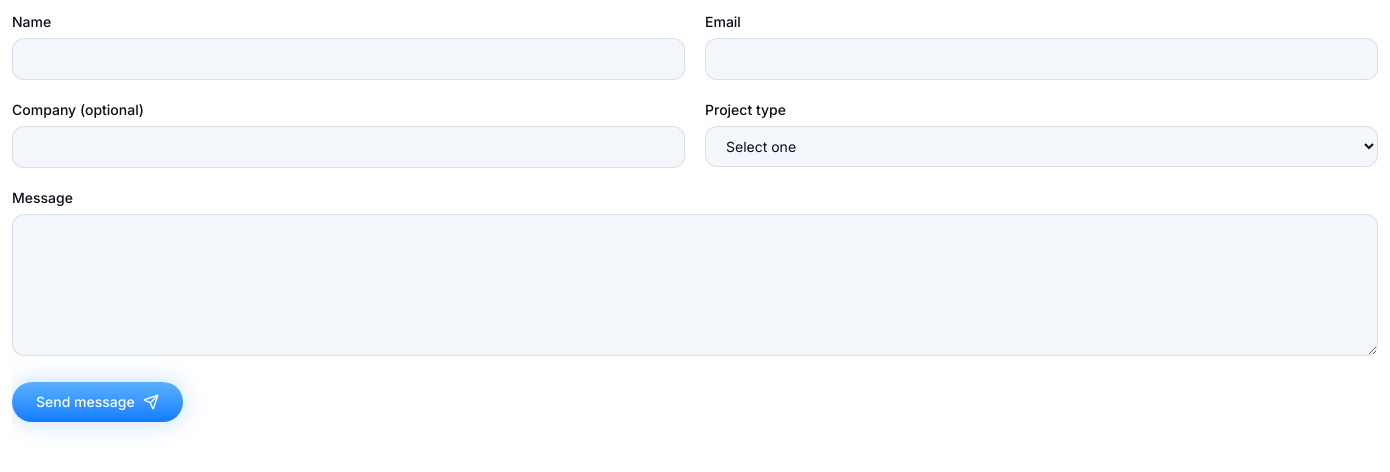
ContactForm › shows field errors returned by the server
Type "Ada Lovelace" into the field labelled "Name" at point(348, 59), box [12,38,685,80]
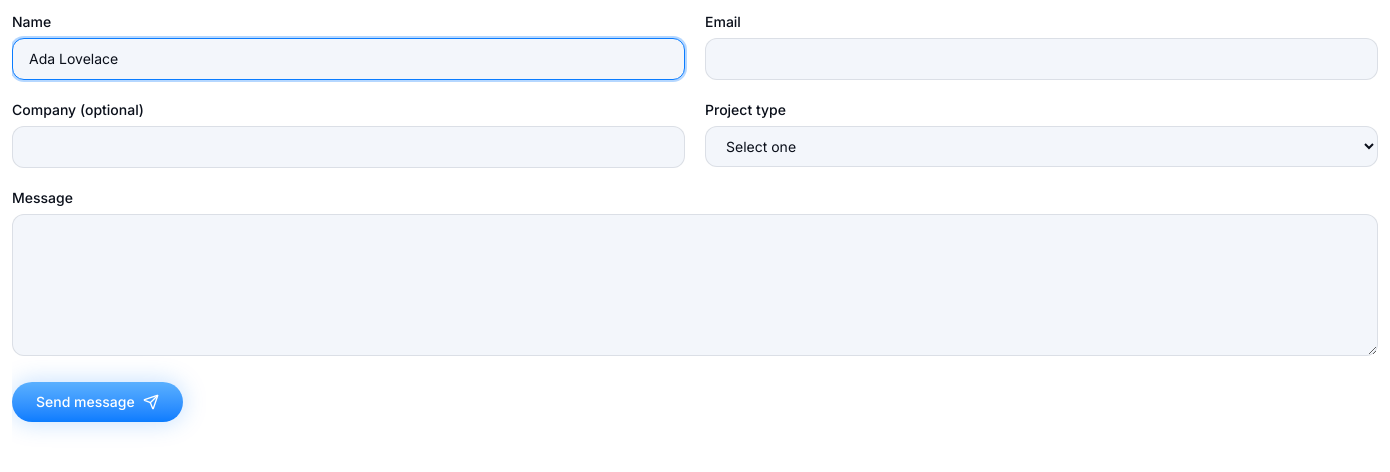
Type "ada@example.com" into the field labelled "Email" at point(1042, 59), box [705,38,1378,80]
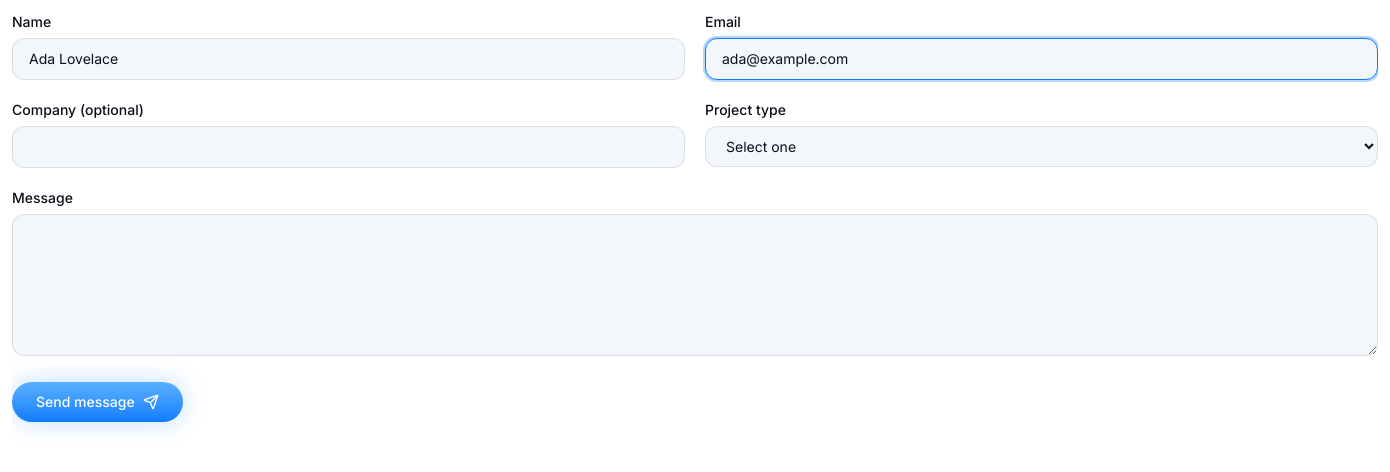
Select "Web app" in the dropdown labelled "Project type" at point(1042, 146), box [705,126,1378,167]
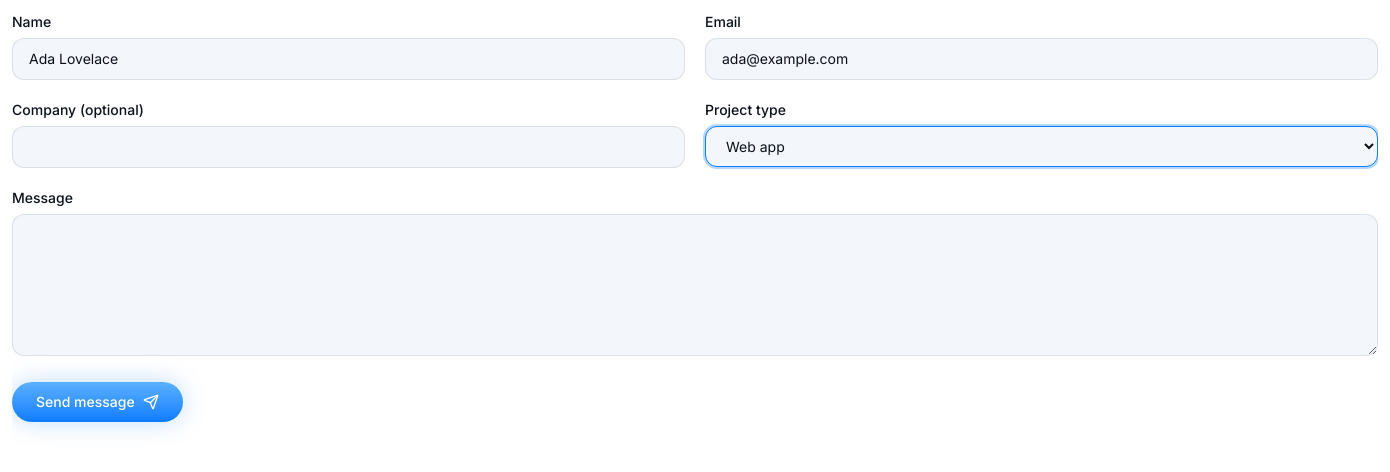
Type "We need a customer portal built." into the text box labelled "Message" at point(695, 285), box [12,214,1378,356]
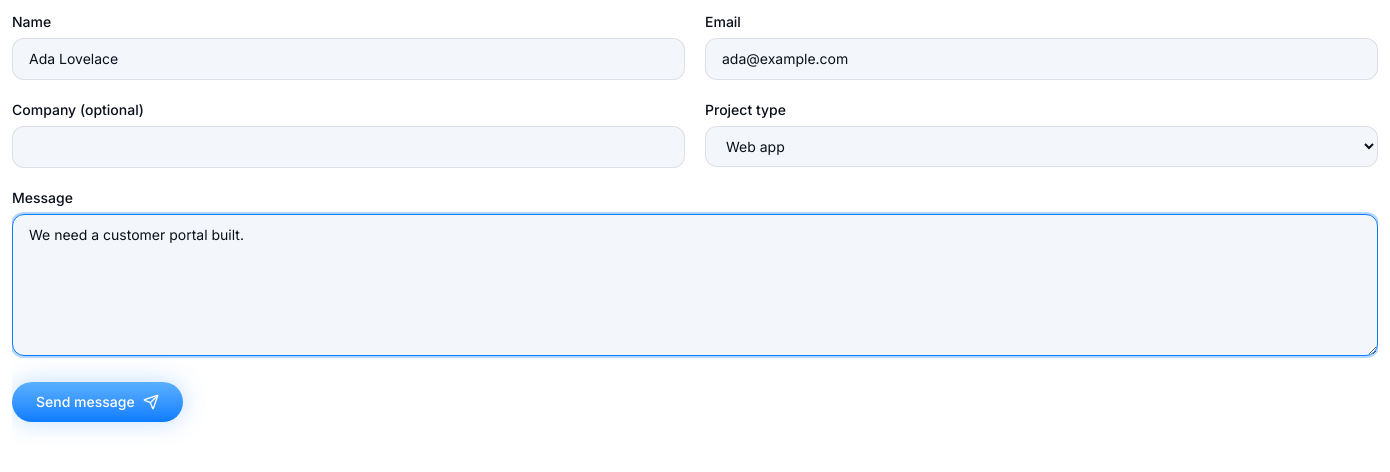
Click the button "Send message" at point(97, 402), box [12,382,183,422]
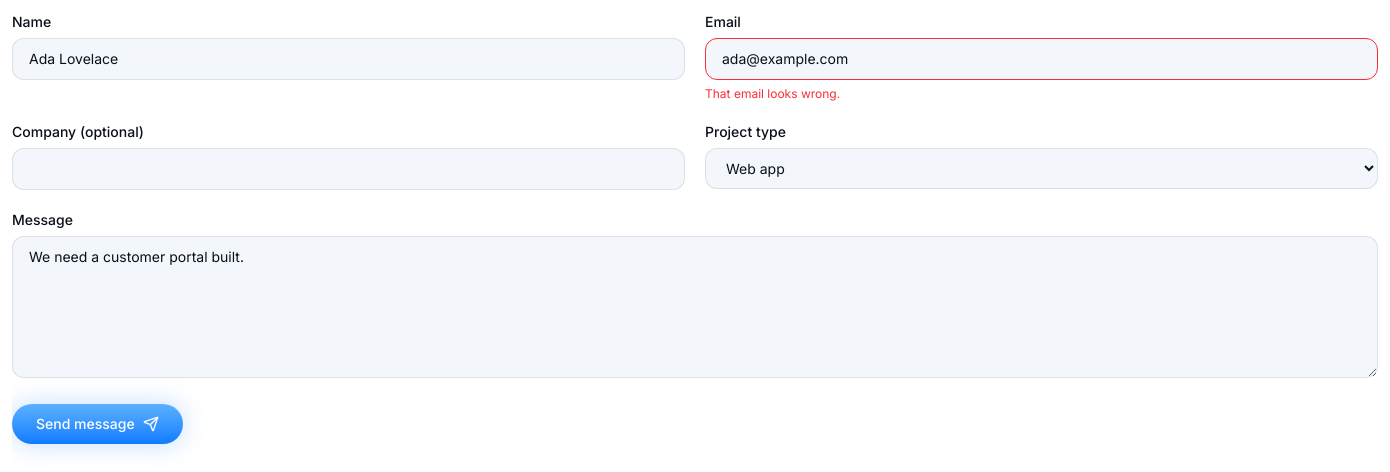
Now the text "That email looks wrong." is shown, box [705,86,840,101]
